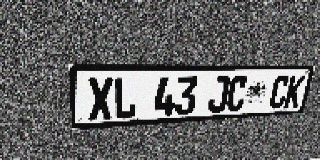3: (174, 76, 198, 115)
4: (153, 77, 177, 117)
C: (225, 76, 249, 112), (268, 75, 291, 109)
J: (207, 76, 231, 113)
K: (283, 75, 306, 108)
L: (114, 77, 138, 119)
X: (88, 78, 113, 121)
